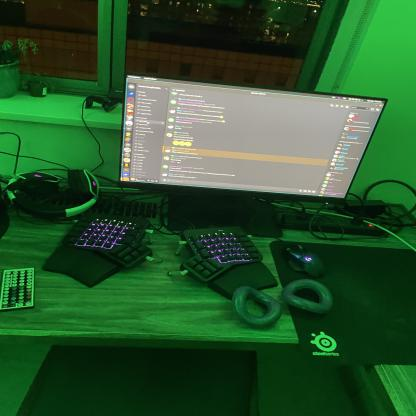ring: (231, 286, 283, 327), (280, 278, 335, 314)
